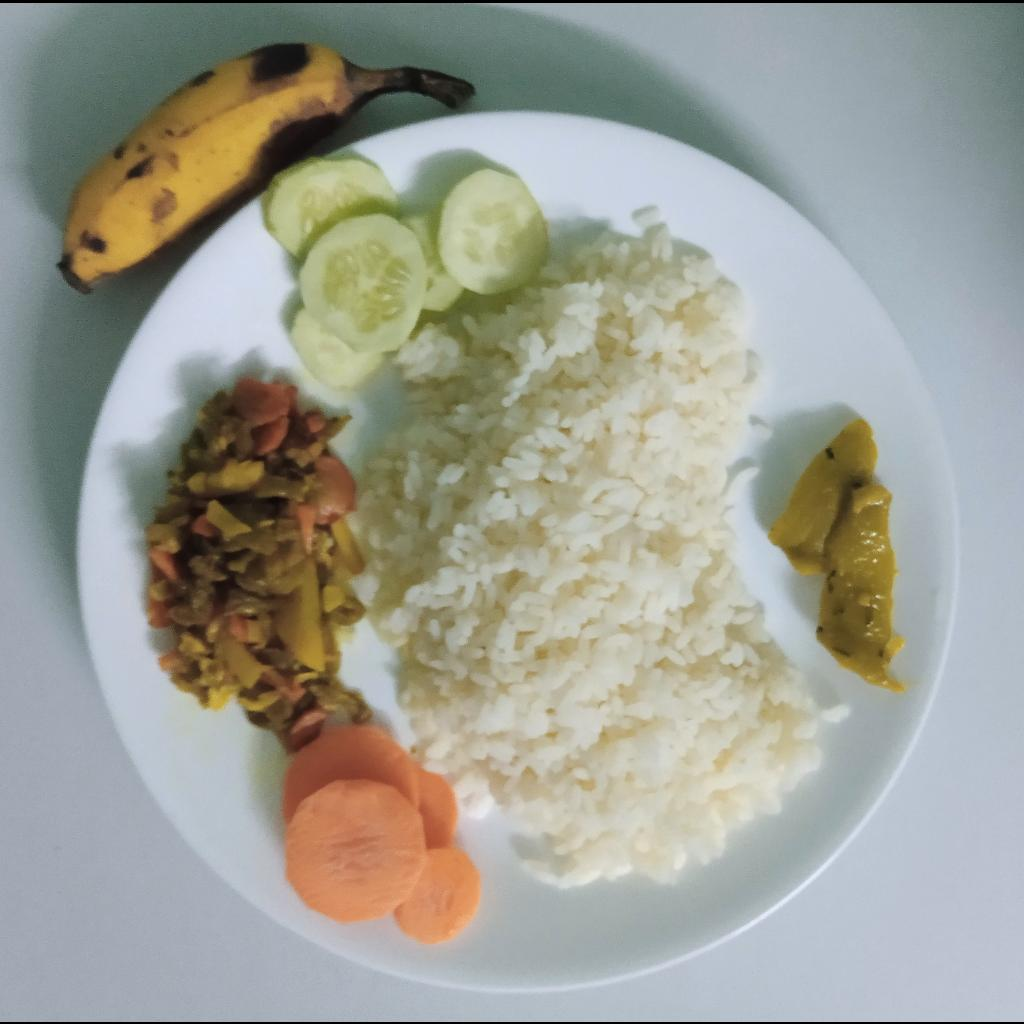banana: (60, 39, 477, 295)
carrot: (281, 723, 481, 944)
cucumber: (261, 155, 548, 388)
okra: (768, 416, 907, 693)
rice: (357, 206, 851, 889)
vegetable: (146, 379, 376, 752)
